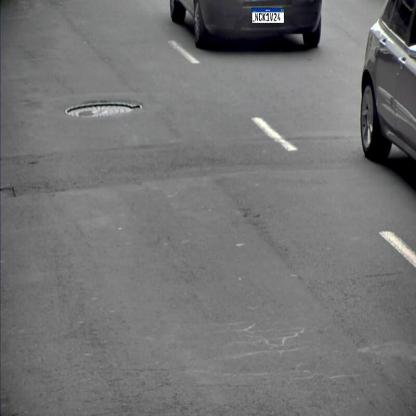PlacaM: (252, 7, 284, 24)
